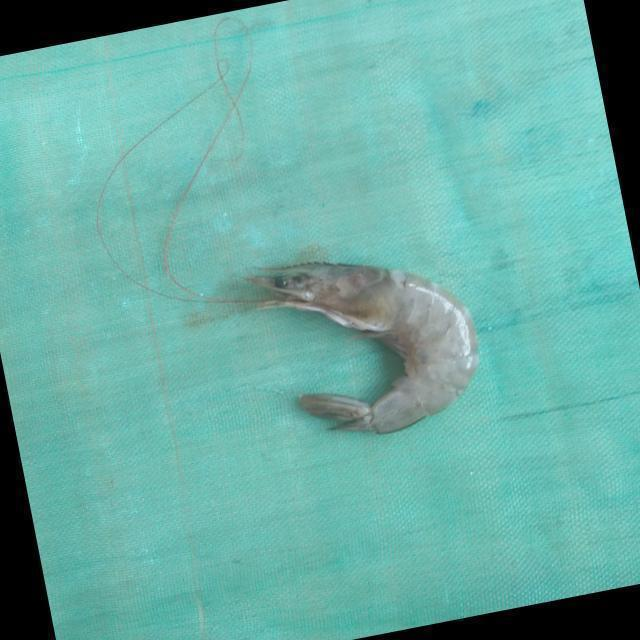shrimp: (249, 263, 479, 434)
